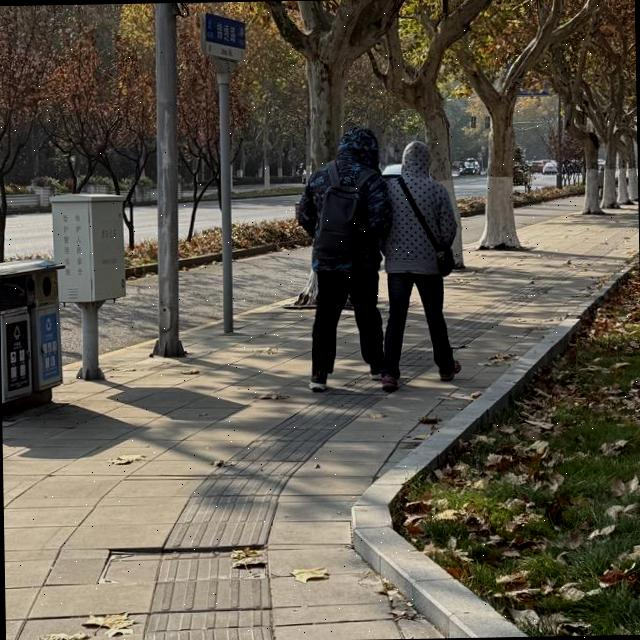curb: (351, 269, 627, 637), (232, 241, 298, 258), (179, 253, 221, 269), (125, 263, 157, 279)
